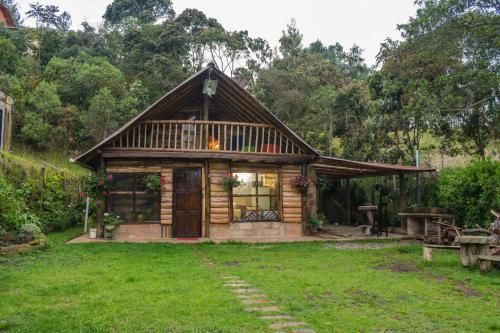House: (70, 52, 416, 239)
